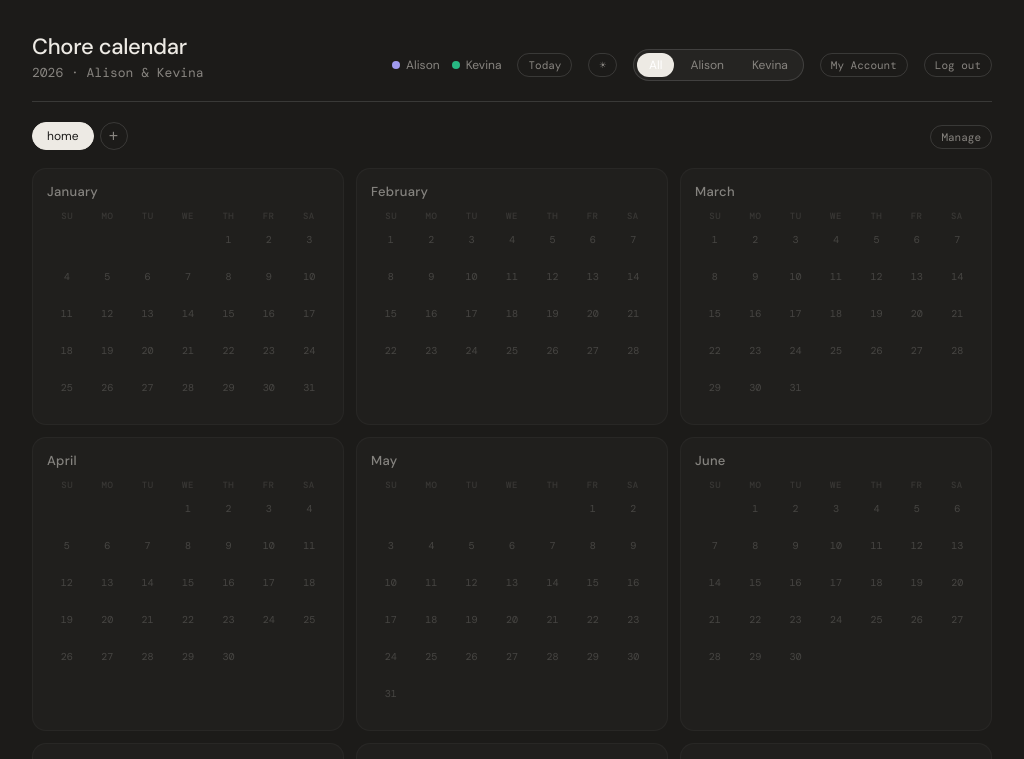
Test: App › switching filter while panel is open updates the chore list
Check: the text "January" is shown, box [47,183,98,200]
Step 1. Click the button "1" below "January" → [228, 240], box [225,233,231,246]
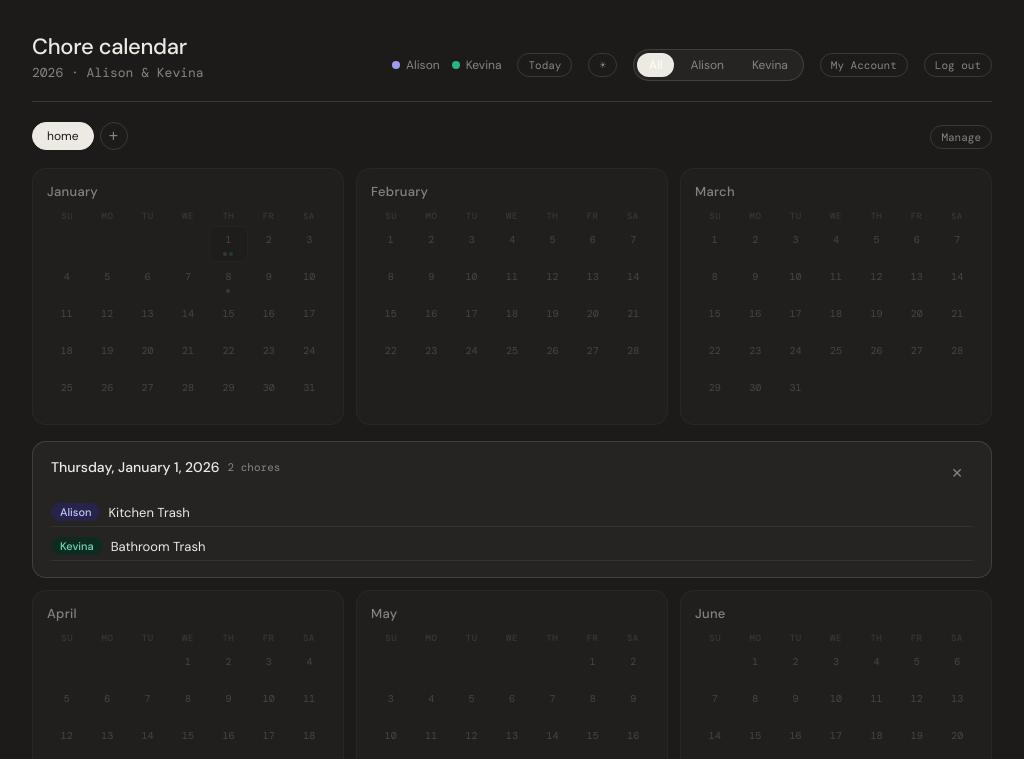
Check: the text "Kitchen Trash" is shown, box [108,504,190,520]
Check: the text "Bathroom Trash" is shown, box [111,538,206,554]
Step 2. Click the button "Kevina" → [770, 65], box [740,53,800,77]
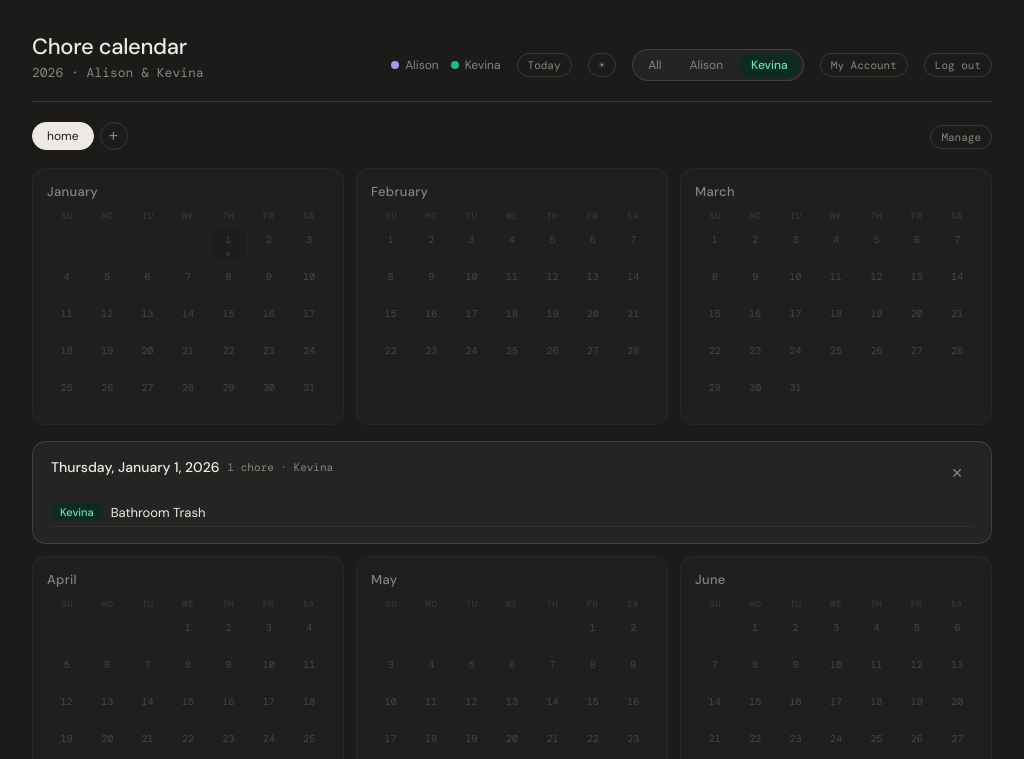
Check: the text "Bathroom Trash" is shown, box [111,504,206,520]
Check: the text "Kitchen Trash" is gone
